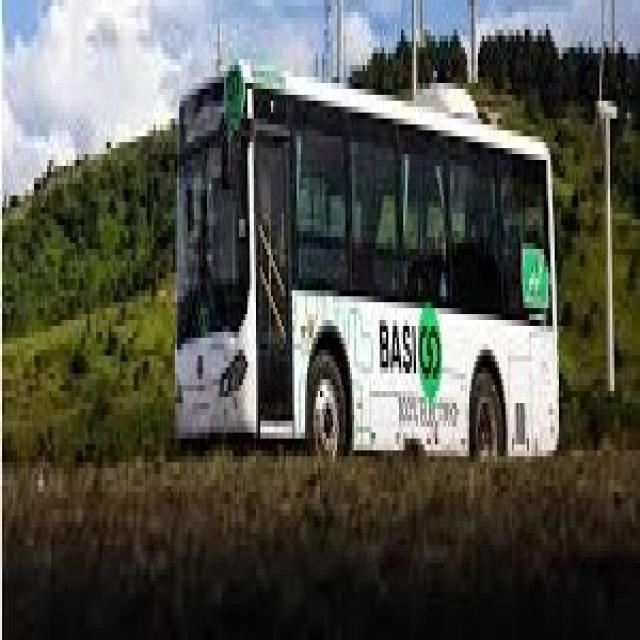bus: (161, 32, 571, 491)
